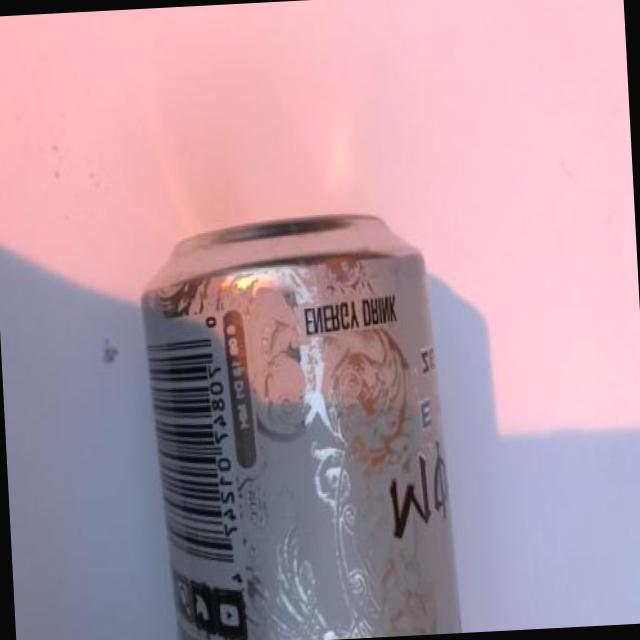kim_loai: (141, 216, 459, 640)
